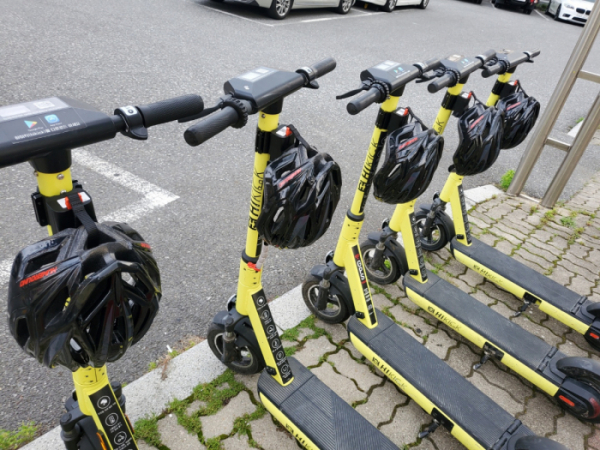kick_handler: (185, 57, 339, 142), (336, 57, 450, 110), (432, 50, 495, 87), (488, 49, 540, 73)
kick_neck: (33, 180, 122, 400), (242, 117, 282, 313)
kick_wheel: (207, 313, 263, 373), (304, 267, 352, 323), (363, 237, 400, 284), (415, 209, 449, 250)
